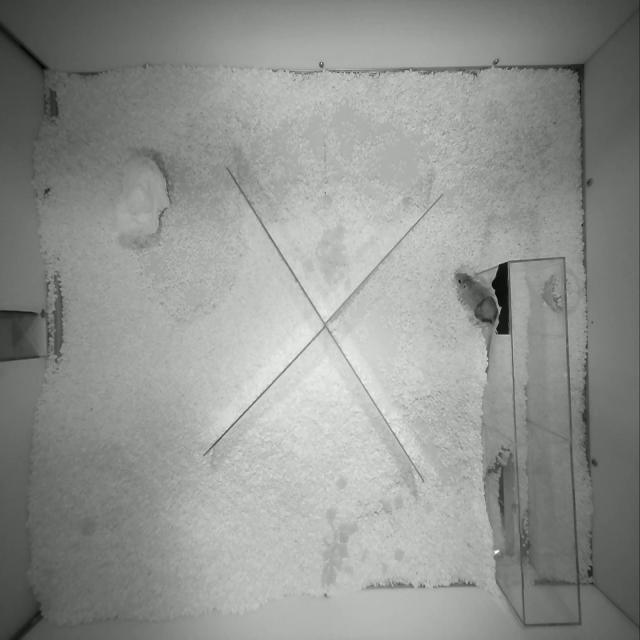adult_back: (455, 273, 500, 376)
